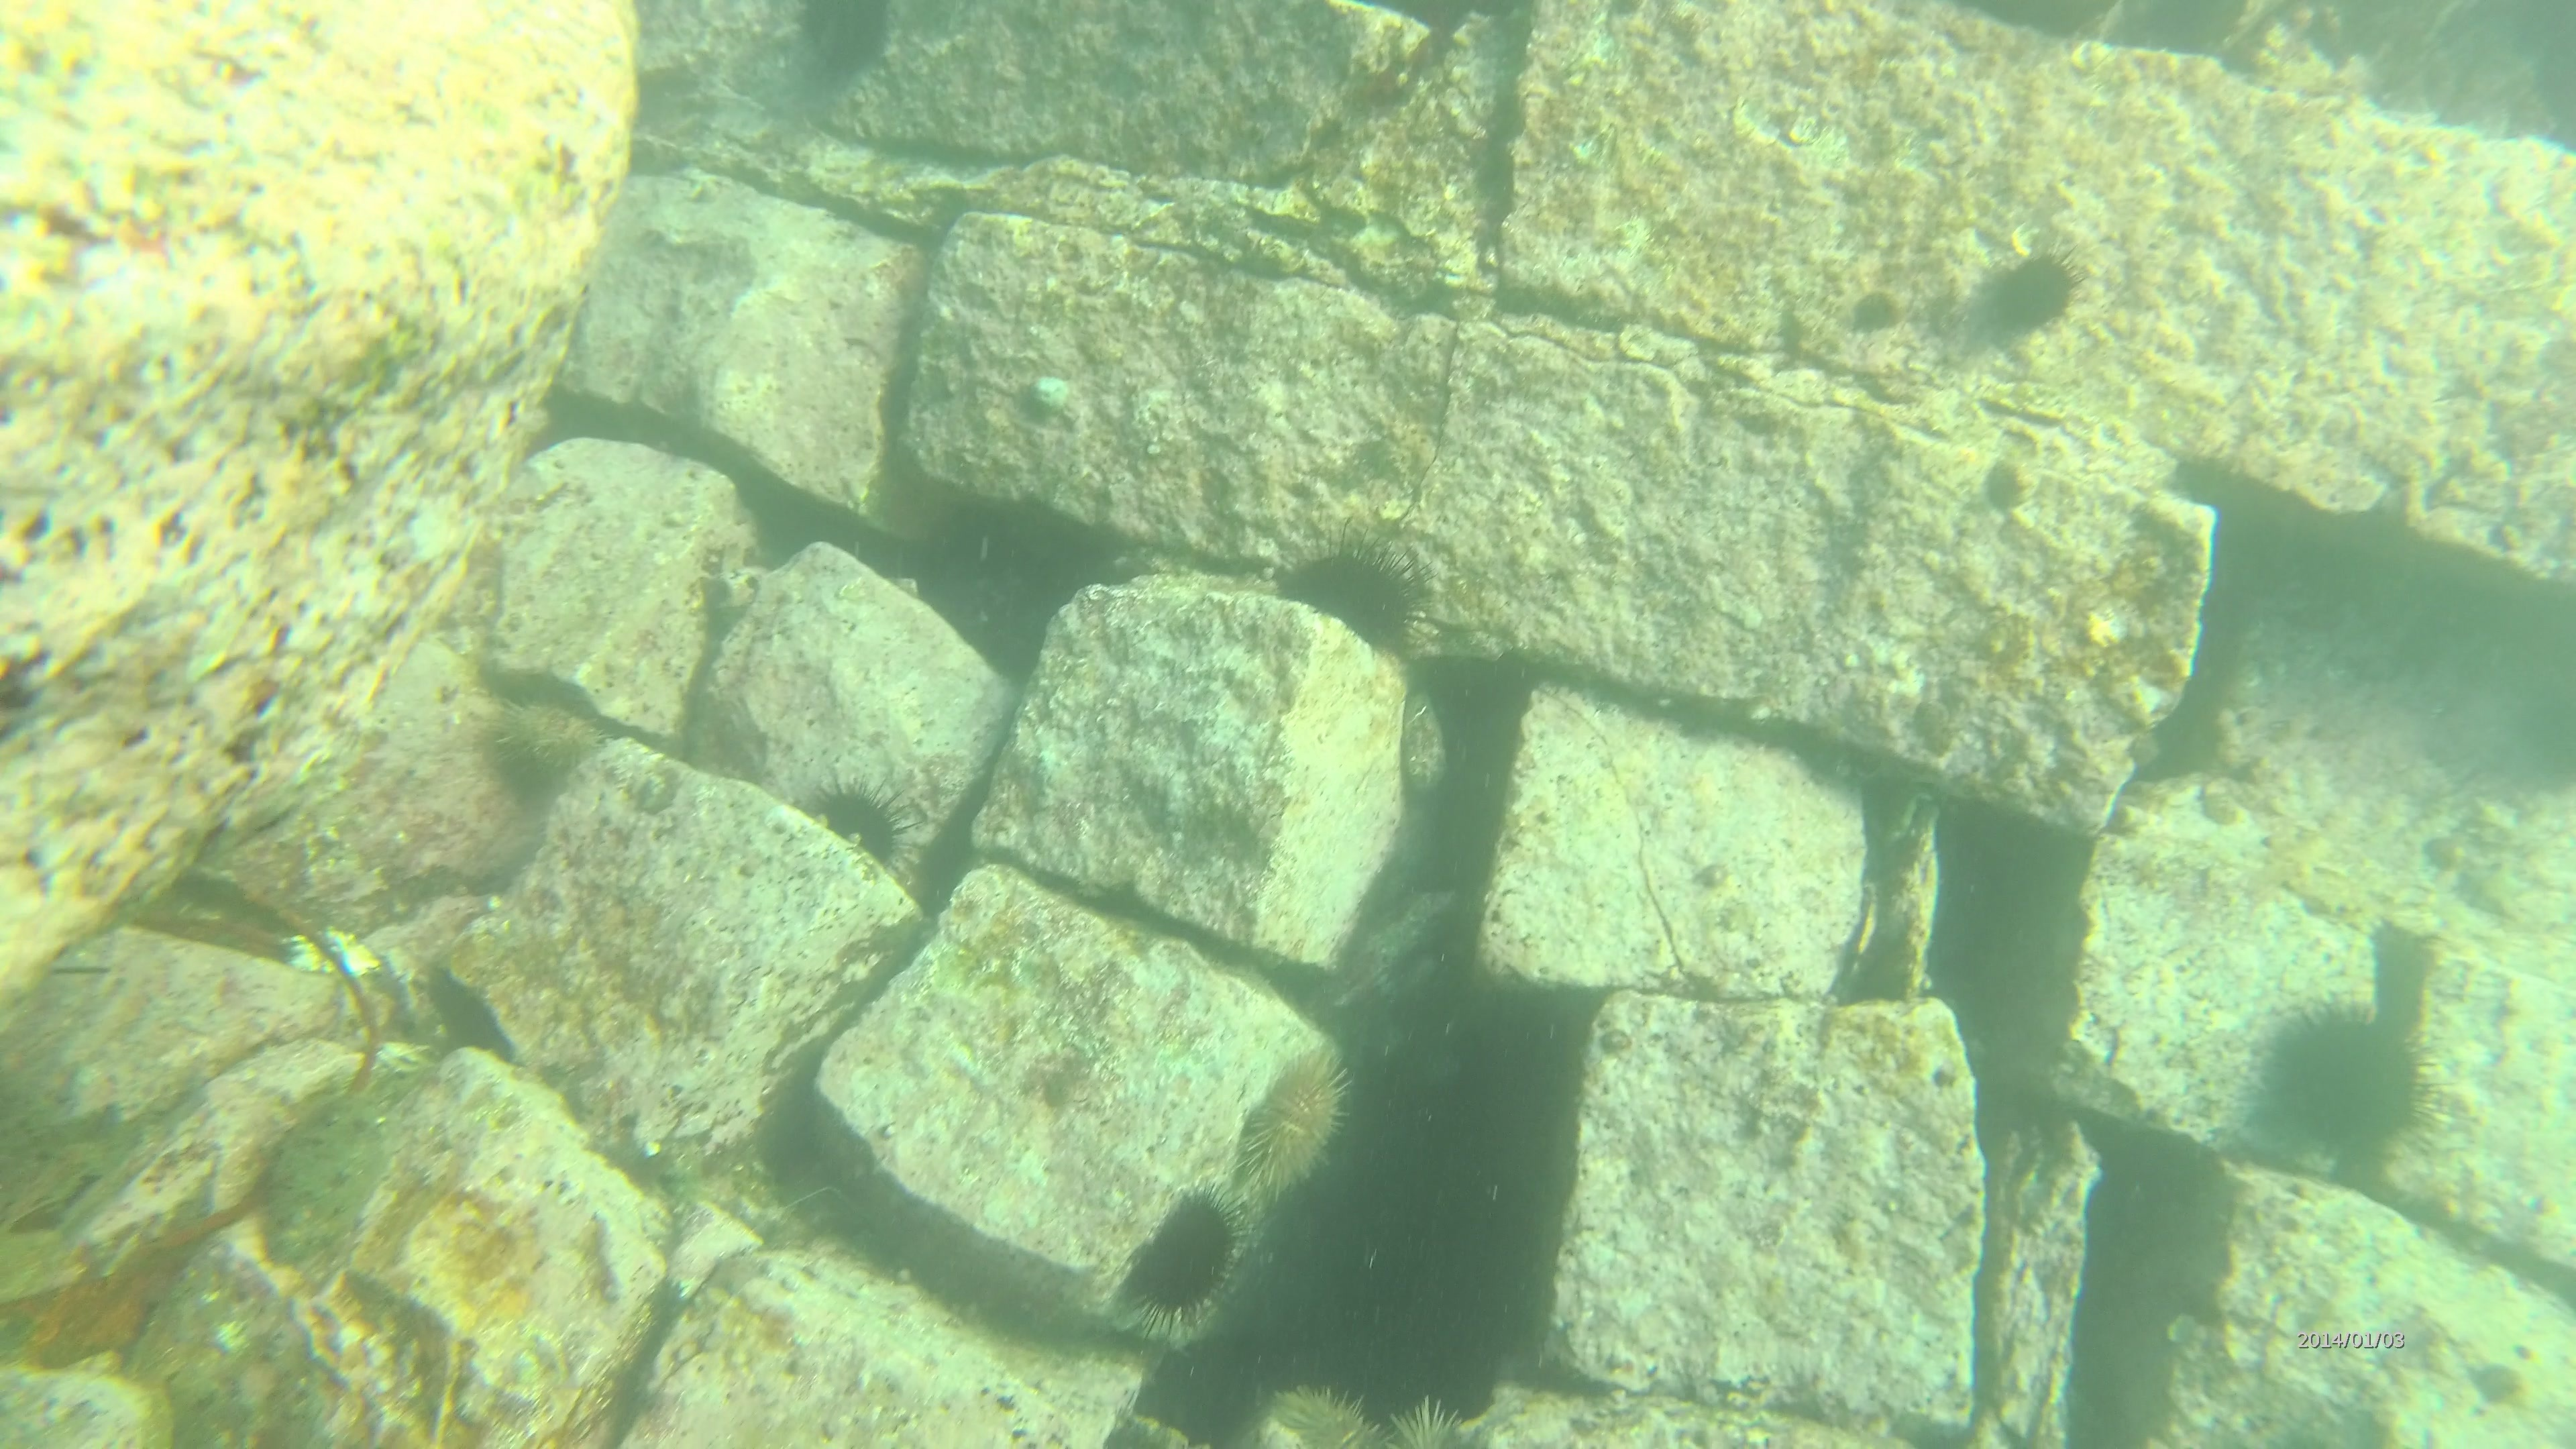echinus: (2265, 989, 2449, 1173), (1281, 518, 1442, 667), (1109, 1180, 1251, 1341), (1235, 1053, 1353, 1205), (800, 764, 927, 883), (478, 695, 587, 791), (1992, 239, 2084, 341), (1260, 1384, 1392, 1449), (1387, 1384, 1520, 1449), (798, 0, 897, 81)
